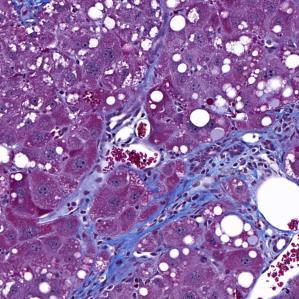fibrosis: (166, 128, 276, 214), (70, 199, 168, 292)
